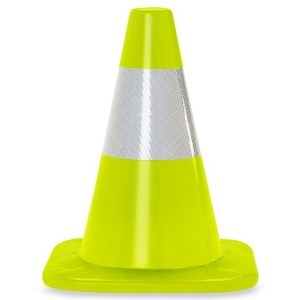traffic cone: (43, 7, 258, 293)
